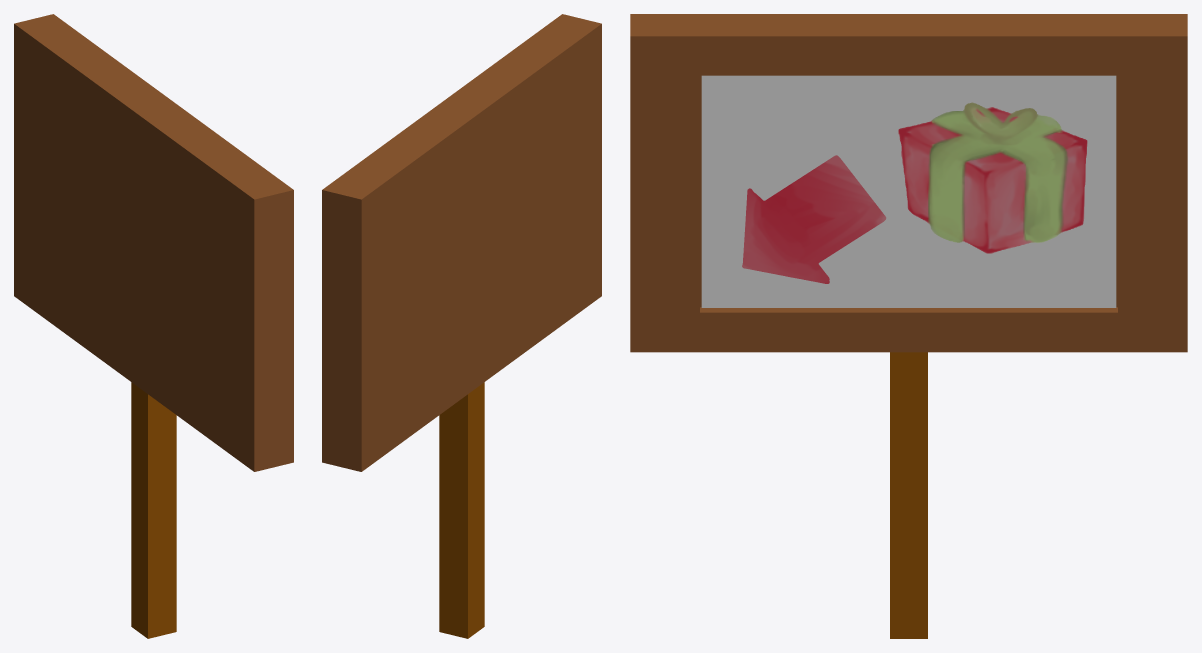
Rendered from sign4.fbx.
3 views of the same model, side by side, from view 1: azimuth 30°, elevation 25°; view 2: azimuth 150°, elevation 25°; view 3: azimuth 270°, elevation 25° (orthographic). The views are drawn at different scales.
Visible parts, largest first — view 1: Cube, Cube.001; view 2: Cube, Cube.001; view 3: Cube, Plane, paket.001, PIL.001, Cube.001.
Boxes of the visible parts, box(x1,y1,x2,y2) form: Cube: box(14, 14, 293, 471); Cube.001: box(131, 382, 176, 638); Cube: box(322, 14, 601, 471); Cube.001: box(439, 382, 484, 638); Cube: box(630, 14, 1187, 352); Plane: box(701, 75, 1116, 307); paket.001: box(898, 102, 1087, 253); PIL.001: box(742, 155, 886, 283); Cube.001: box(890, 352, 927, 638).
Bounding box in the file's own units: 54.47 × 689 × 574.
